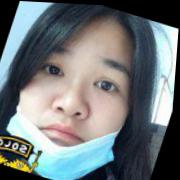WRONG: (1, 17, 152, 180)
